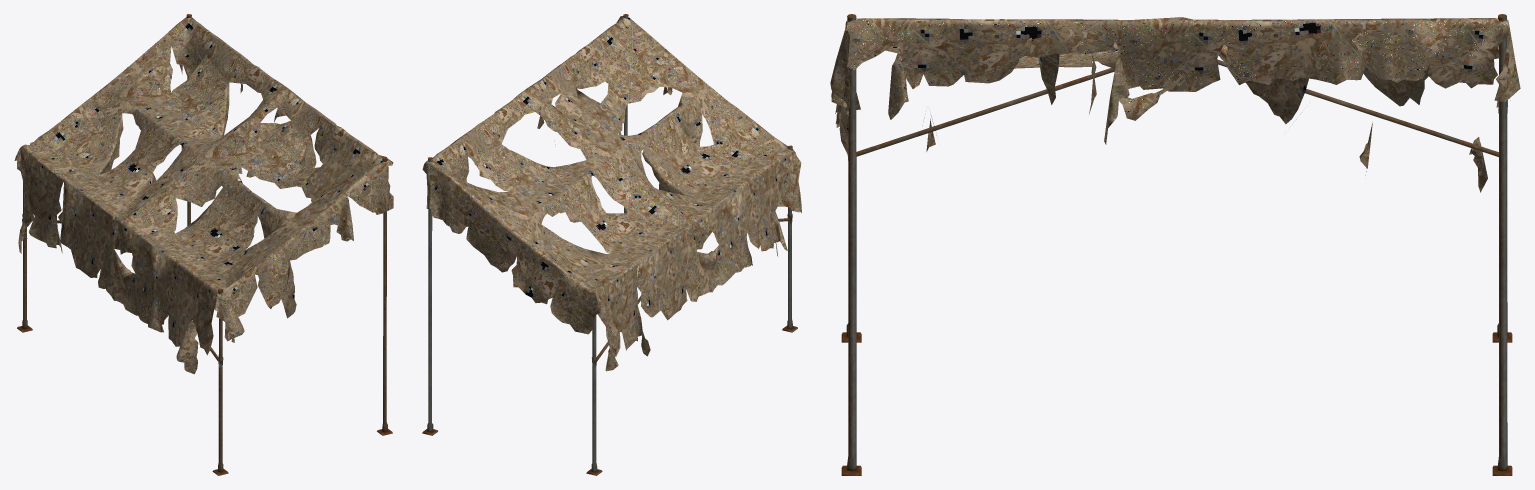
Rendered from awning_600x300.glb.
3 views of the same model, side by side, from view 1: azimuth 30°, elevation 25°; view 2: azimuth 150°, elevation 25°; view 3: azimuth 270°, elevation 25° (orthographic). The views are drawn at different scales.
Visible parts, largest first — view 1: awning_600x300_LOD0; view 2: awning_600x300_LOD0; view 3: awning_600x300_LOD0.
Boxes of the visible parts, <box> form: awning_600x300_LOD0: <box>14,14,393,475</box>; awning_600x300_LOD0: <box>422,14,801,475</box>; awning_600x300_LOD0: <box>830,14,1520,475</box>.
Bounding box in the file's own units: 3.33 × 4.5 × 6.18.
2 materials, 2 textured.
